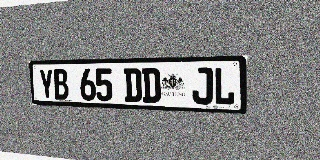5: (95, 68, 113, 101)
6: (79, 68, 96, 101)
B: (53, 69, 69, 100)
D: (142, 68, 161, 103), (124, 68, 142, 102)
J: (192, 67, 213, 105)
L: (213, 67, 236, 105)
Y: (38, 69, 54, 99)
